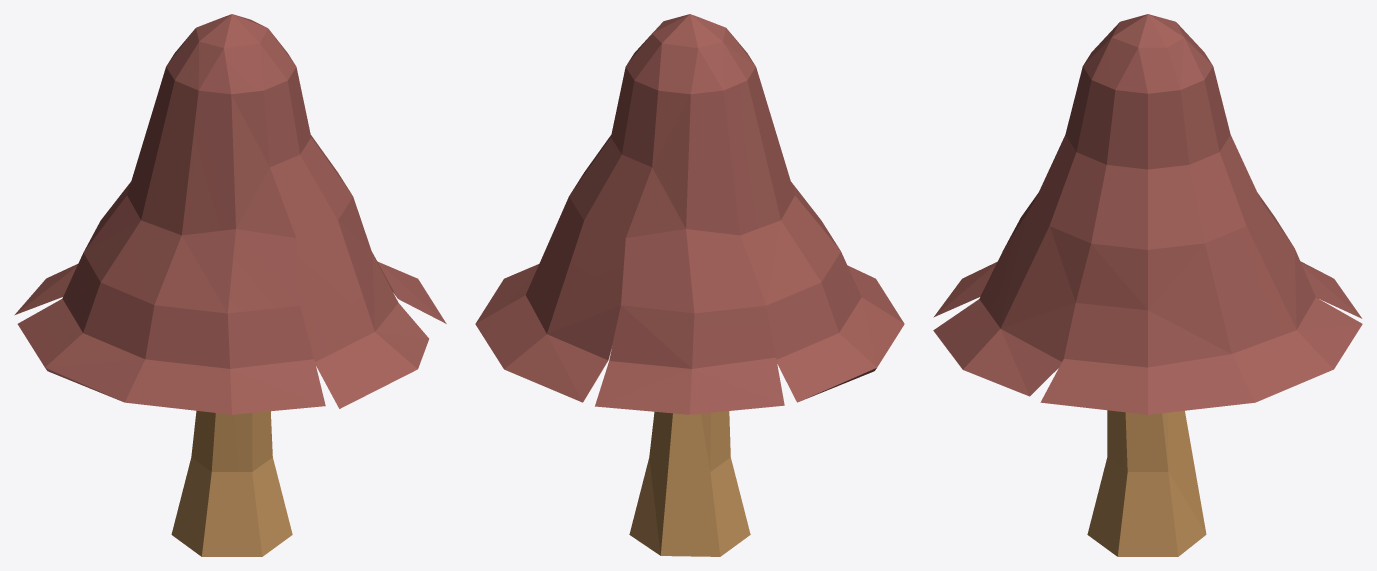
File: mushroom_interactable_2.fbx
3 renders of one model, left to right at view 1: azimuth 30°, elevation 25°; view 2: azimuth 150°, elevation 25°; view 3: azimuth 270°, elevation 25°, orthographic.
Visible parts, largest first — view 1: mushroom_interactable_2; view 2: mushroom_interactable_2; view 3: mushroom_interactable_2.
Boxes of the visible parts, left/top/right/bottom form: mushroom_interactable_2: left=14, top=14, right=446, bottom=556; mushroom_interactable_2: left=475, top=14, right=904, bottom=556; mushroom_interactable_2: left=933, top=14, right=1362, bottom=556.
Bounding box in the file's own units: 180 × 240 × 180.
